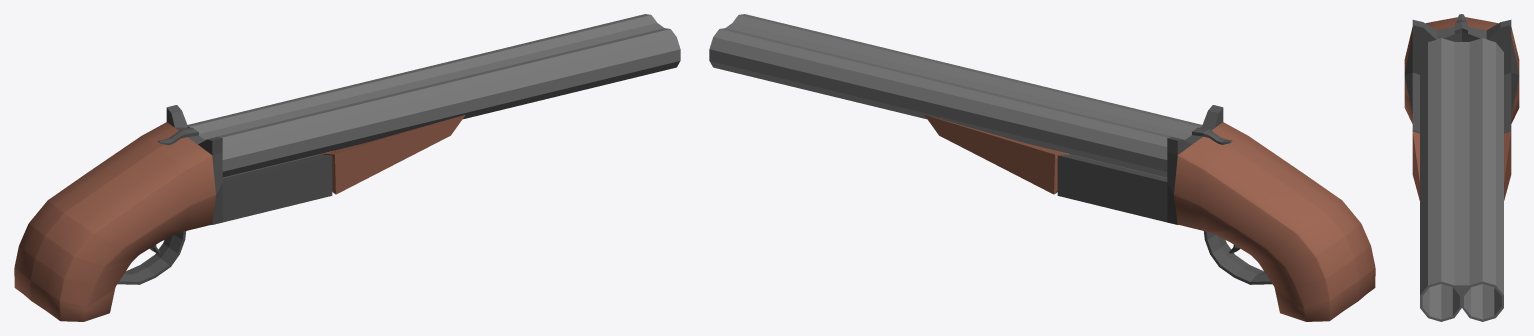
File: Shotgun.fbx
The picture shows the model from 3 angles, left to right: view 1: azimuth 30°, elevation 25°; view 2: azimuth 150°, elevation 25°; view 3: azimuth 270°, elevation 25°; orthographic projection. The views are drawn at different scales.
Parts seen in each view (by area): view 1: Barrels, Stock, Metal, Grip, Stock.001; view 2: Barrels, Stock, Metal, Grip, Stock.001; view 3: Barrels, Metal, Stock, Grip.
Boxes of the visible parts, x1,y1,x2,y2 form: Barrels: [187, 14, 680, 177]; Stock: [14, 122, 215, 321]; Metal: [158, 105, 332, 224]; Grip: [320, 115, 465, 194]; Stock.001: [117, 231, 186, 284]; Barrels: [709, 14, 1202, 177]; Stock: [1174, 122, 1375, 321]; Metal: [1057, 105, 1232, 224]; Grip: [924, 115, 1069, 194]; Stock.001: [1203, 231, 1272, 284]; Barrels: [1420, 38, 1503, 321]; Metal: [1404, 14, 1519, 133]; Stock: [1404, 17, 1519, 123]; Grip: [1412, 131, 1511, 200].
Bounding box in the file's own units: 1594 × 361 × 234.
